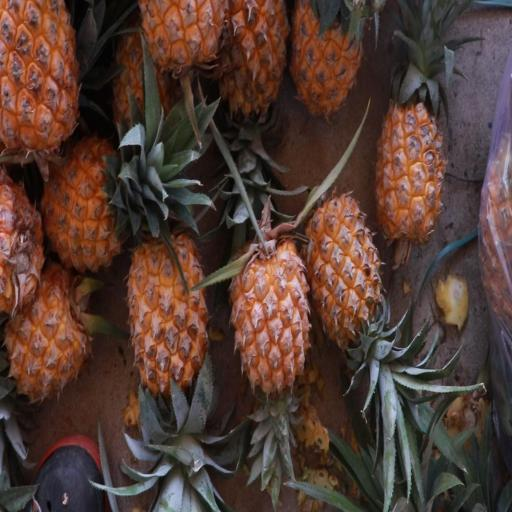Pineapple - v8 v1: (125, 223, 212, 434), (34, 132, 158, 279), (300, 190, 386, 383), (224, 225, 312, 409), (371, 58, 450, 248), (2, 258, 96, 410), (0, 1, 83, 170), (214, 0, 295, 125), (290, 0, 368, 126), (134, 0, 234, 97)
